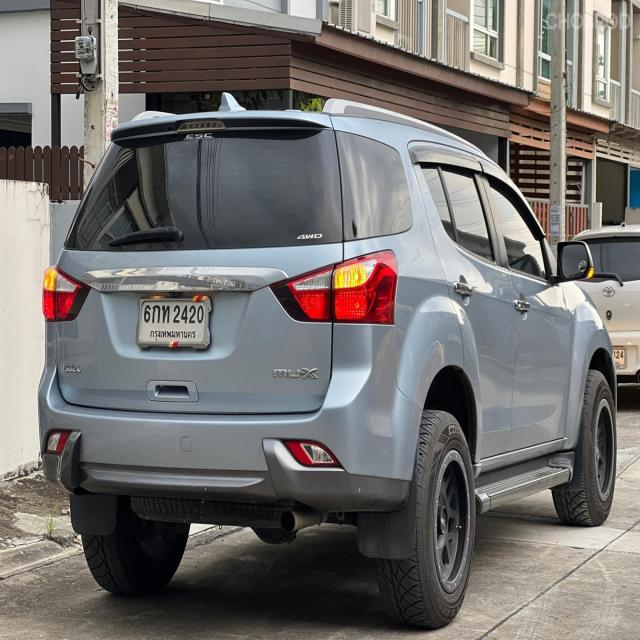license_plate: (136, 292, 213, 354)
